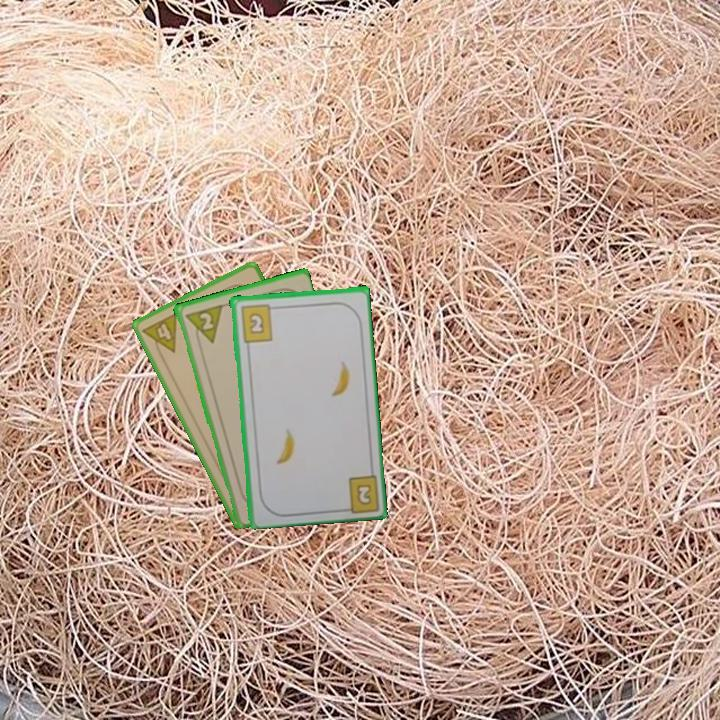2b: (336, 469, 380, 513), (237, 300, 279, 344)
2p: (181, 301, 224, 349)
4p: (139, 309, 180, 361)
